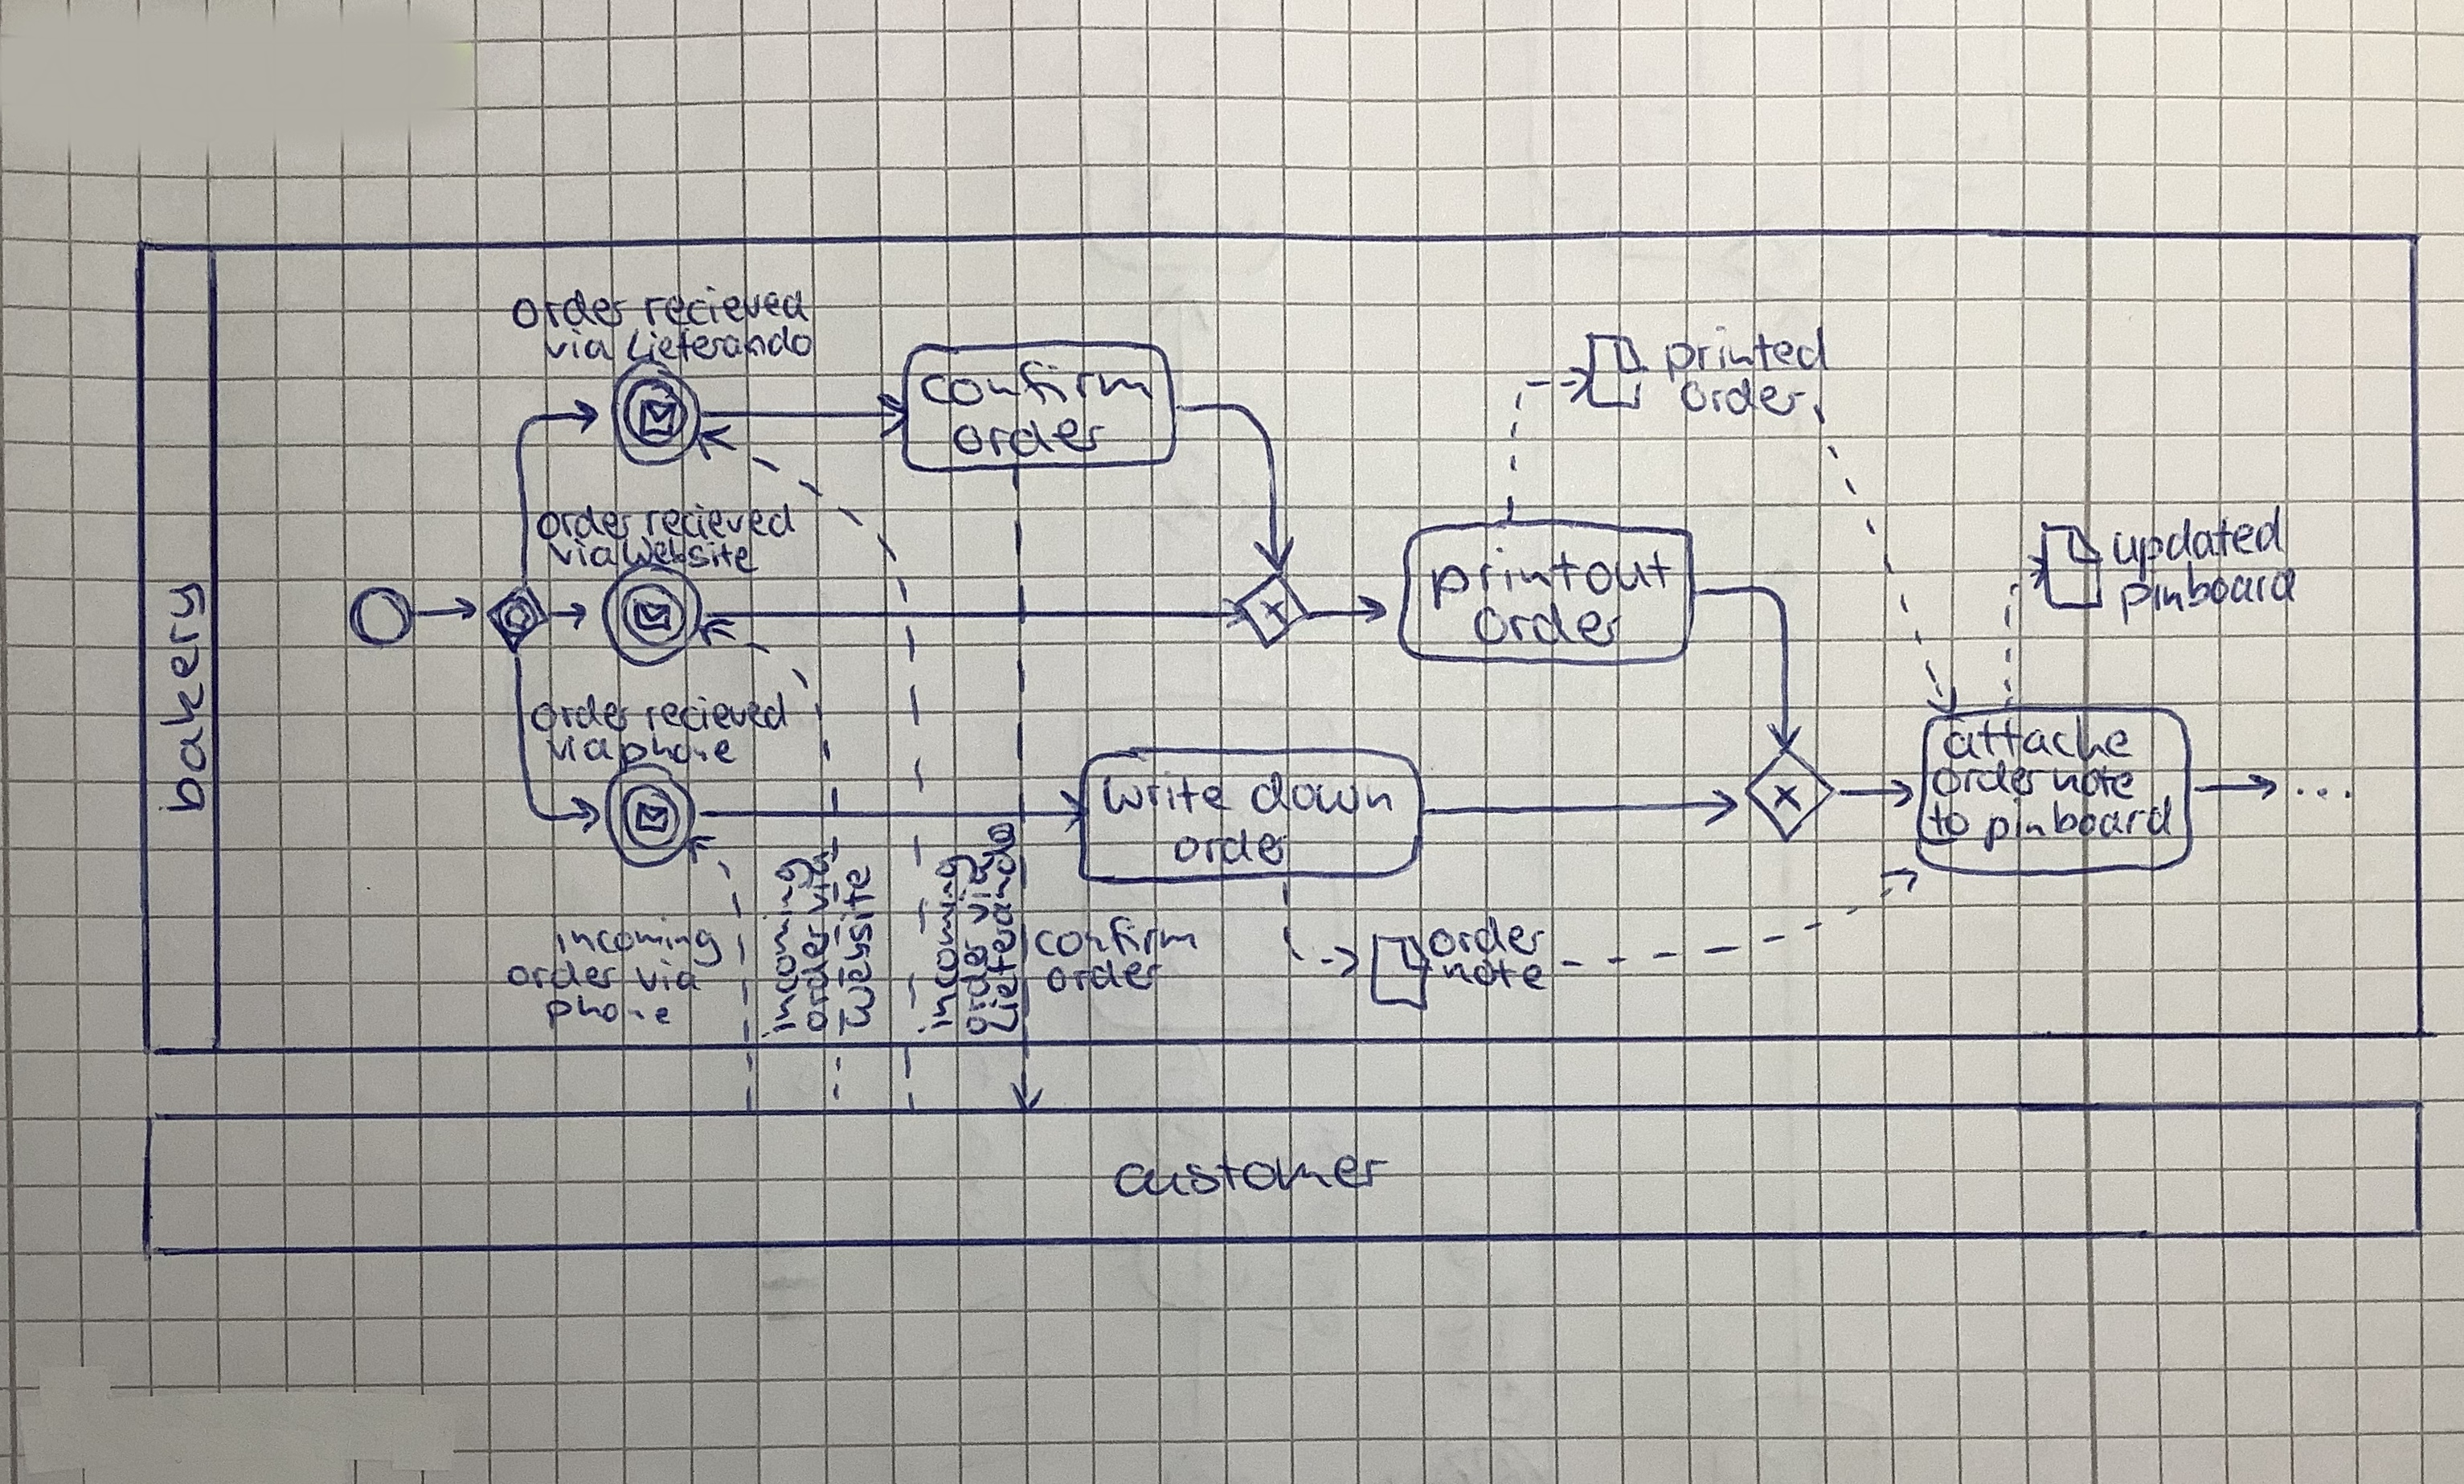Lieferando: (987, 822, 1023, 1039), (621, 324, 817, 359)
Website: (843, 868, 875, 1032), (621, 537, 755, 574)
Write: (1100, 771, 1228, 817)
attache: (1941, 716, 2133, 764)
bakery: (155, 581, 213, 819)
confirm: (913, 357, 1156, 408), (1035, 917, 1199, 959)
customer: (1114, 1153, 1389, 1197)
down: (1246, 771, 1396, 820)
incoming: (759, 857, 810, 1040), (551, 912, 723, 961), (936, 845, 979, 1035)
note: (1440, 959, 1547, 995), (2049, 762, 2137, 799)
order: (1473, 600, 1619, 651), (947, 415, 1104, 461), (509, 285, 627, 331), (1169, 827, 1290, 870), (1679, 377, 1806, 415), (1931, 760, 2047, 801), (1429, 919, 1545, 958), (530, 694, 632, 736), (1045, 963, 1163, 993), (799, 922, 831, 1033), (537, 503, 630, 540), (505, 959, 618, 989), (959, 938, 991, 1037)
out: (1586, 547, 1674, 595)
phone: (546, 995, 671, 1032), (616, 734, 736, 768)
pinboard: (2117, 562, 2302, 627), (1982, 794, 2174, 854)
print: (1426, 546, 1577, 607)
printed: (1658, 324, 1834, 377)
recieved: (639, 283, 810, 329), (641, 692, 788, 731), (644, 502, 796, 539)
to: (1927, 799, 1973, 840)
updated: (2105, 500, 2288, 570)
via: (544, 729, 616, 766), (632, 958, 706, 993), (537, 331, 616, 363), (961, 861, 998, 922), (544, 540, 621, 569), (801, 854, 834, 915)
